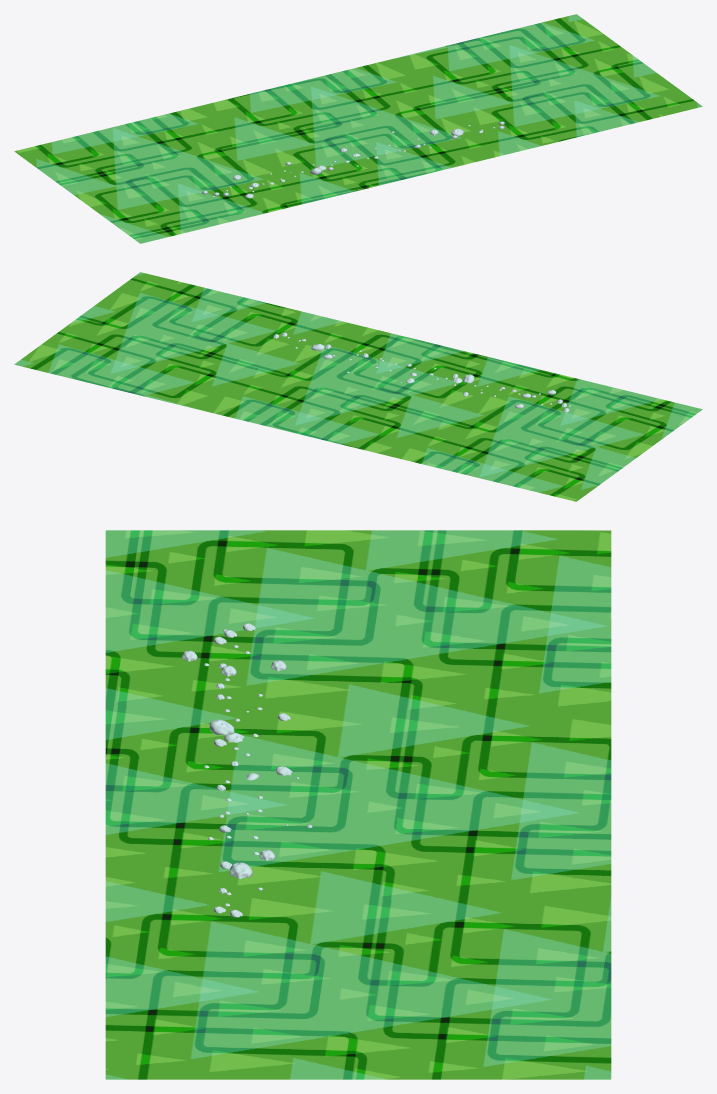
File: ground_3.fbx
3 renders of one model, top to bottom at view 1: azimuth 30°, elevation 25°; view 2: azimuth 150°, elevation 25°; view 3: azimuth 270°, elevation 25°, orthographic. The views are drawn at different scales.
Visible parts, largest first — view 1: Ground; view 2: Ground; view 3: Ground.
Boxes of the visible parts, x1,y1,x2,y2 form: Ground: (14,14,702,243); Ground: (14,272,702,501); Ground: (105,530,611,1079).
Bounding box in the file's own units: 465 × 9.1 × 181.
